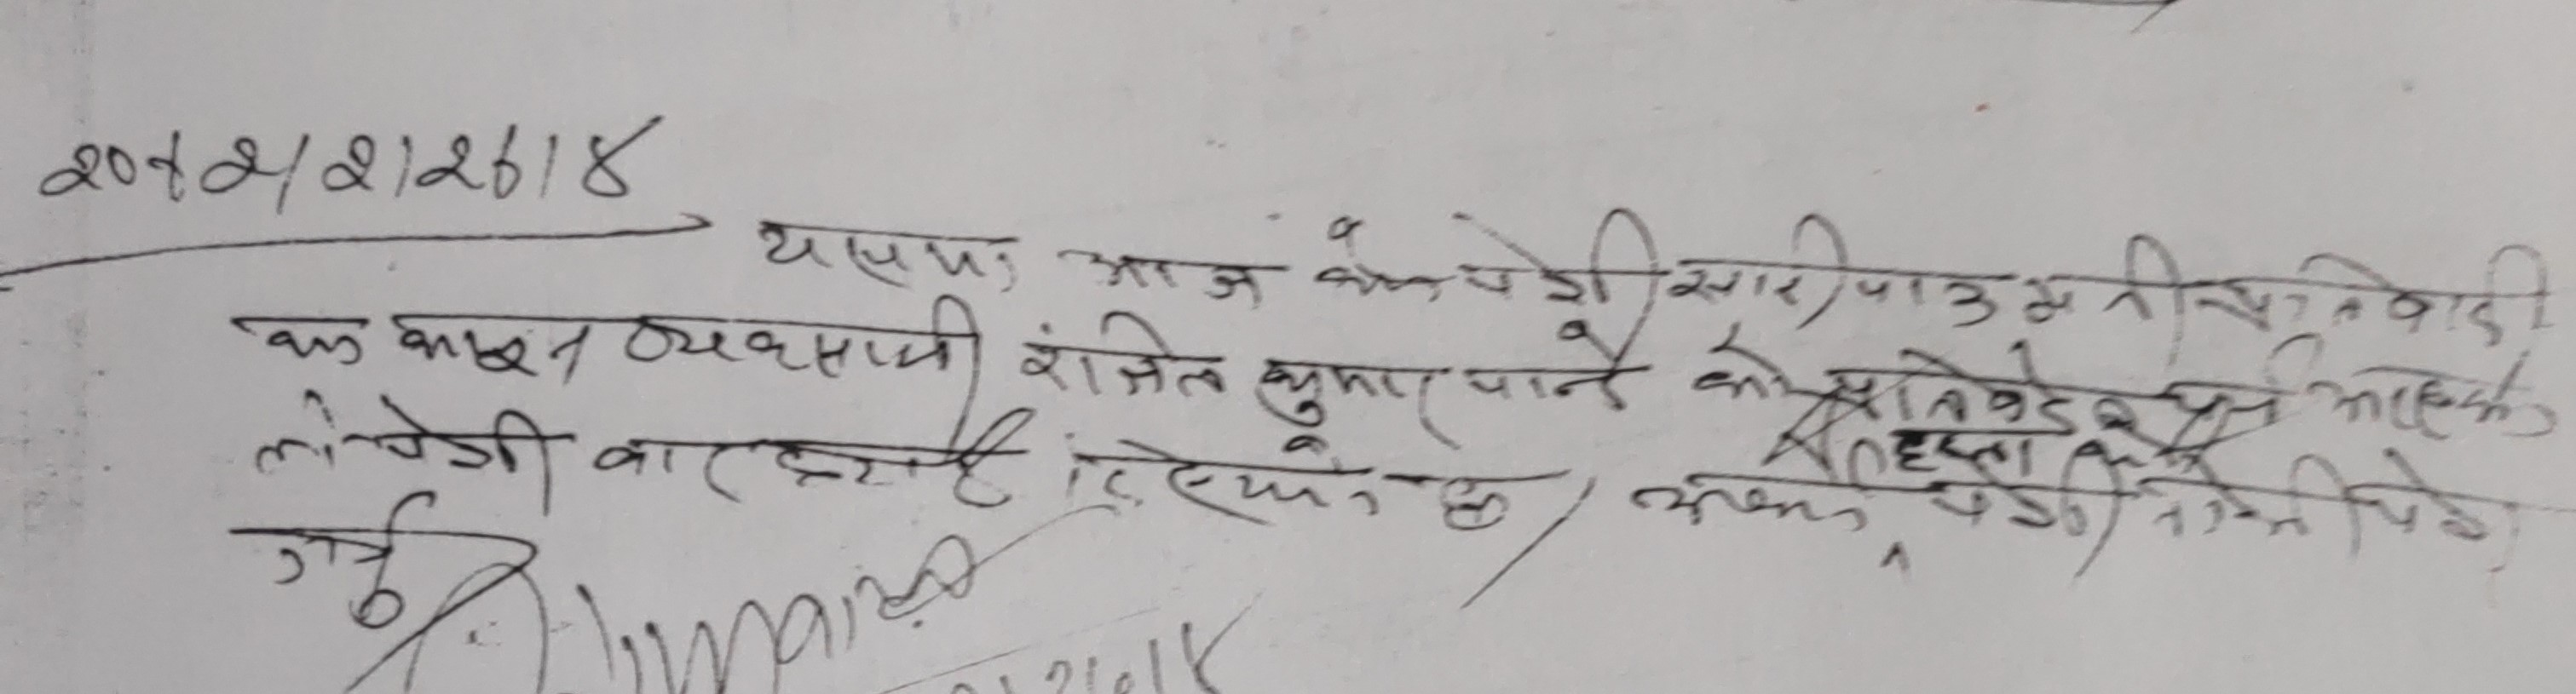text: (26, 107, 672, 221), (586, 397, 1027, 517), (1664, 203, 2004, 335), (1308, 199, 1667, 318), (2208, 236, 2560, 349), (628, 292, 989, 397), (1042, 422, 1380, 533), (235, 294, 598, 390), (250, 390, 568, 495), (754, 210, 1032, 294), (1023, 307, 1239, 402), (2024, 231, 2190, 345), (1467, 322, 1648, 420), (1058, 236, 1270, 312), (1245, 356, 1457, 430), (1439, 466, 1516, 533)
